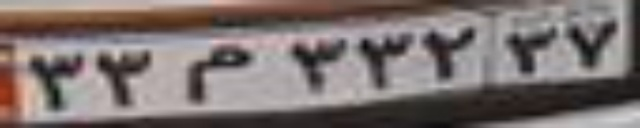2: (420, 24, 481, 82)
3: (23, 47, 88, 112), (92, 47, 158, 107), (288, 35, 347, 98), (356, 30, 412, 91), (504, 24, 556, 76)
7: (566, 19, 619, 71)
mim: (182, 44, 253, 103)
